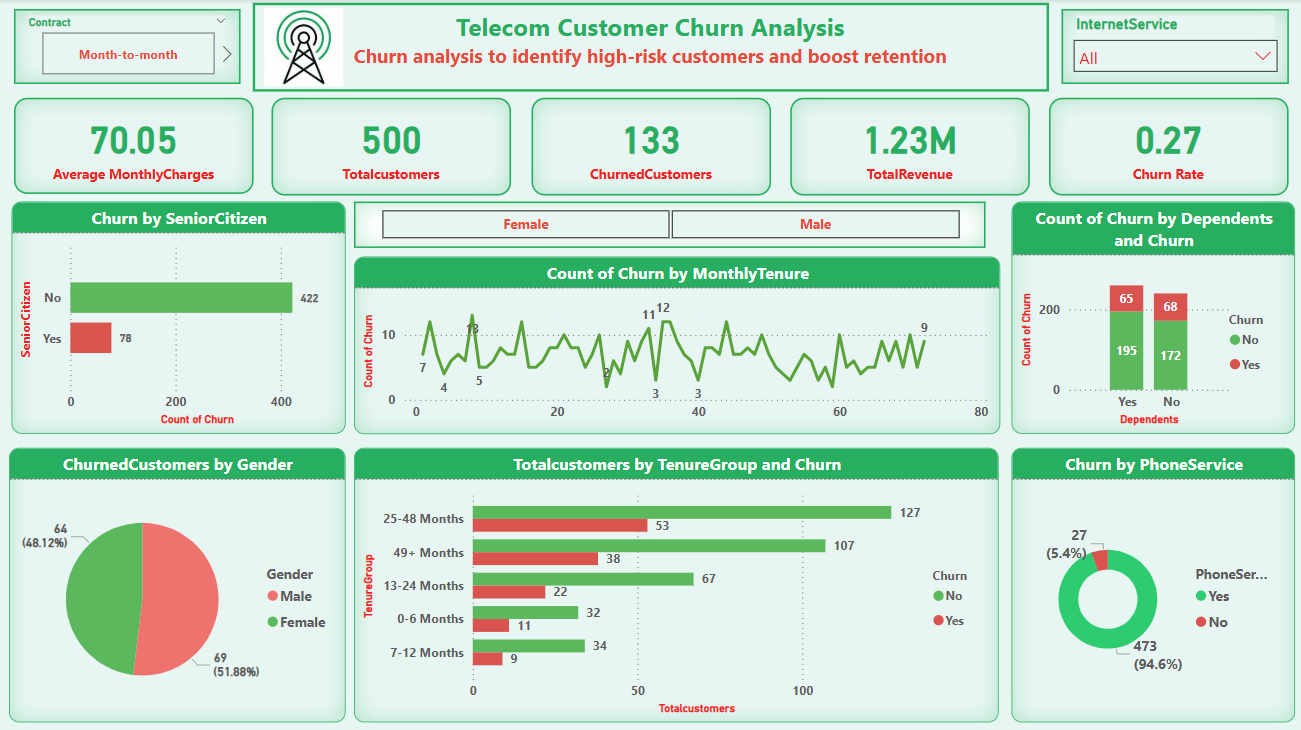

Layout of this report page (visuals, bound fields, positions):
{"tool":"powerbi","page":{"name":"Cards","canvas":[1280,720],"ordinal":0},"visuals":[{"type":"card","fields":{"Values":["Avg(Customerdata.MonthlyCharges)"]},"box":[14.7,96.9,235.6,94.5],"z":0},{"type":"textbox","box":[249.1,3.7,781.6,87],"z":1000},{"type":"pieChart","fields":{"Category":["Customerdata.Gender"],"Y":["Customerdata.ChurnedCustomers"]},"box":[9.8,440.5,330.1,269.9],"z":2000},{"type":"clusteredBarChart","title":"Churn by SeniorCitizen","fields":{"Y":["CountNonNull(Customerdata.Churn)"],"Category":["Customerdata.SeniorCitizen"]},"box":[12.3,198.8,327.6,228.2],"z":3000},{"type":"columnChart","fields":{"Category":["Customerdata.Dependents"],"Series":["Customerdata.Churn"],"Y":["CountNonNull(Customerdata.Churn)"]},"box":[993.9,198.8,278.5,228.2],"z":4000},{"type":"donutChart","title":"Churn by PhoneService","fields":{"Category":["Customerdata.PhoneService"],"Y":["CountNonNull(Customerdata.Churn)"]},"box":[993.9,440.5,278.5,269.9],"z":5000},{"type":"slicer","fields":{"Values":["Customerdata.Gender"]},"box":[348.5,198.8,619.6,45.4],"z":6000},{"type":"slicer","fields":{"Values":["Customerdata.InternetService"]},"box":[1043,9.8,223.3,73.6],"z":7000},{"type":"slicer","fields":{"Values":["Customerdata.Contract"]},"box":[14.7,9.8,222.1,73.6],"z":8000},{"type":"card","fields":{"Values":["Customerdata.Totalcustomers"]},"box":[267.5,96.9,235.6,95.7],"z":9000},{"type":"card","fields":{"Values":["Customerdata.ChurnedCustomers"]},"box":[522.7,96.9,235.6,95.7],"z":10000},{"type":"card","fields":{"Values":["Sum(Customerdata.TotalRevenue)"]},"box":[776.7,96.9,235.6,95.7],"z":11000},{"type":"card","fields":{"Values":["Customerdata.Churn Rate"]},"box":[1030.7,96.9,235.6,95.7],"z":12000},{"type":"lineChart","fields":{"Category":["Customerdata.MonthlyTenure"],"Y":["CountNonNull(Customerdata.Churn)"]},"box":[348.5,252.8,634.4,174.2],"z":13000},{"type":"clusteredBarChart","fields":{"Category":["Customerdata.TenureGroup"],"Y":["Customerdata.Totalcustomers"],"Series":["Customerdata.Churn"]},"box":[348.5,440.5,633.1,269.9],"z":14000},{"type":"image","box":[251.5,3.7,95.7,87],"z":15000}]}

Visuals, with their boxes in screenshot pixels (x1, y1, x2, y2), scaled from the page's 1280x720 canvas onto the 1301x730 screenshot:
card - Avg(Customerdata.MonthlyCharges): 15,98,254,194
textbox: 253,4,1048,92
pieChart - Customerdata.Gender x Customerdata.ChurnedCustomers: 10,447,345,720
"Churn by SeniorCitizen" clusteredBarChart: 13,202,345,433
columnChart - Customerdata.Dependents x Customerdata.Churn: 1010,202,1293,433
"Churn by PhoneService" donutChart: 1010,447,1293,720
slicer - Customerdata.Gender: 354,202,984,248
slicer - Customerdata.InternetService: 1060,10,1287,85
slicer - Customerdata.Contract: 15,10,241,85
card - Customerdata.Totalcustomers: 272,98,511,195
card - Customerdata.ChurnedCustomers: 531,98,771,195
card - Sum(Customerdata.TotalRevenue): 789,98,1029,195
card - Customerdata.Churn Rate: 1048,98,1287,195
lineChart - Customerdata.MonthlyTenure x CountNonNull(Customerdata.Churn): 354,256,999,433
clusteredBarChart - Customerdata.TenureGroup x Customerdata.Totalcustomers: 354,447,998,720
image: 256,4,353,92
